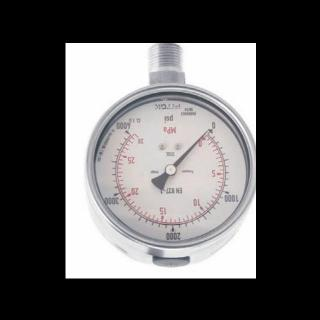gauge: (66, 82, 256, 276), (119, 120, 145, 148), (196, 121, 216, 146), (163, 164, 177, 176), (202, 126, 210, 136)
